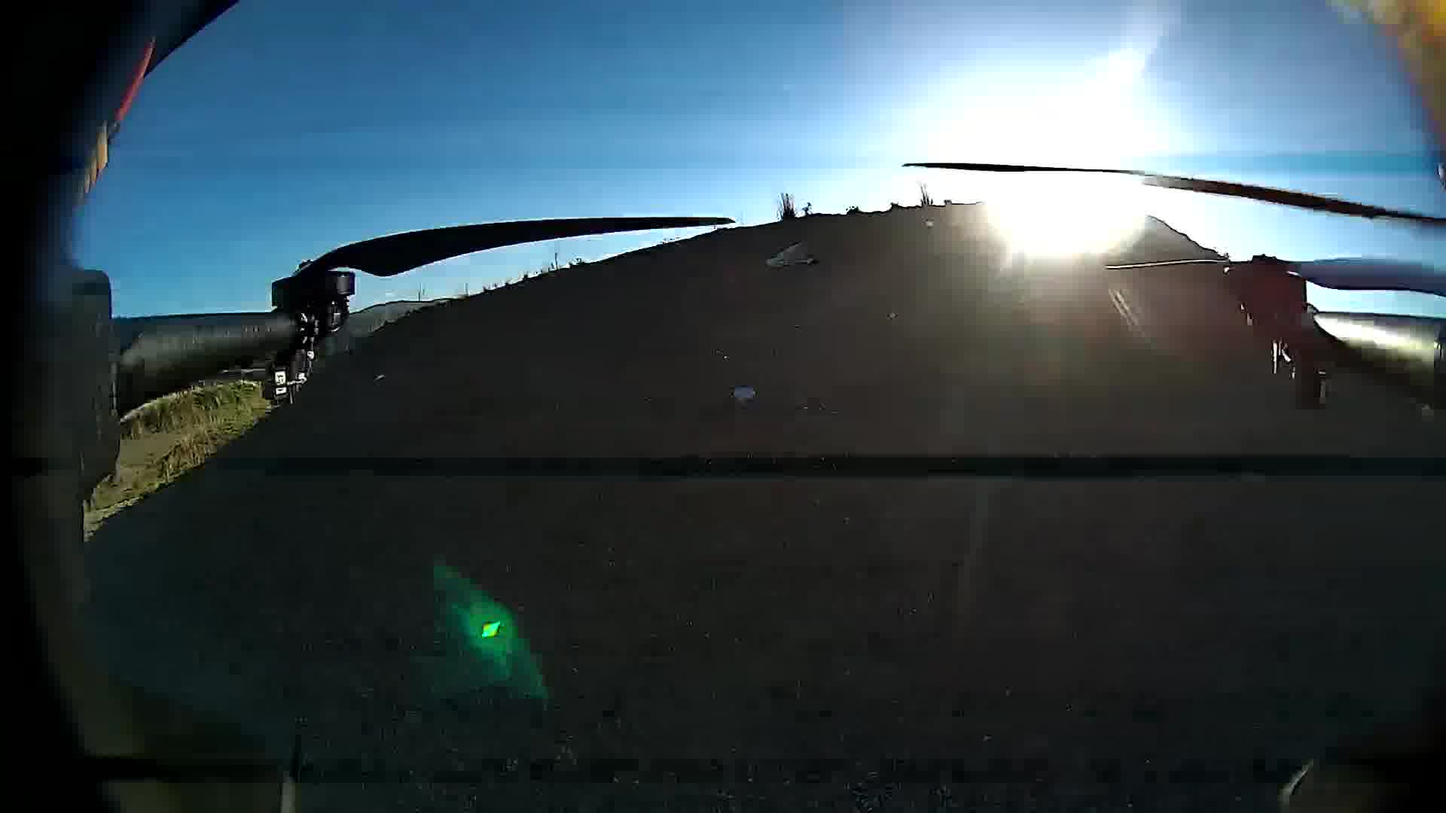Target: (735, 387, 756, 404)
